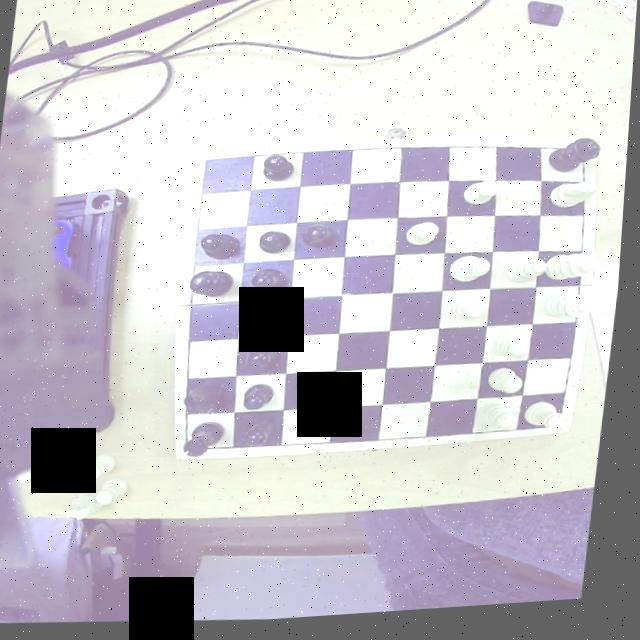chess-table-corners: (198, 155, 225, 179), (180, 438, 206, 461), (547, 424, 577, 443), (574, 152, 598, 172)
